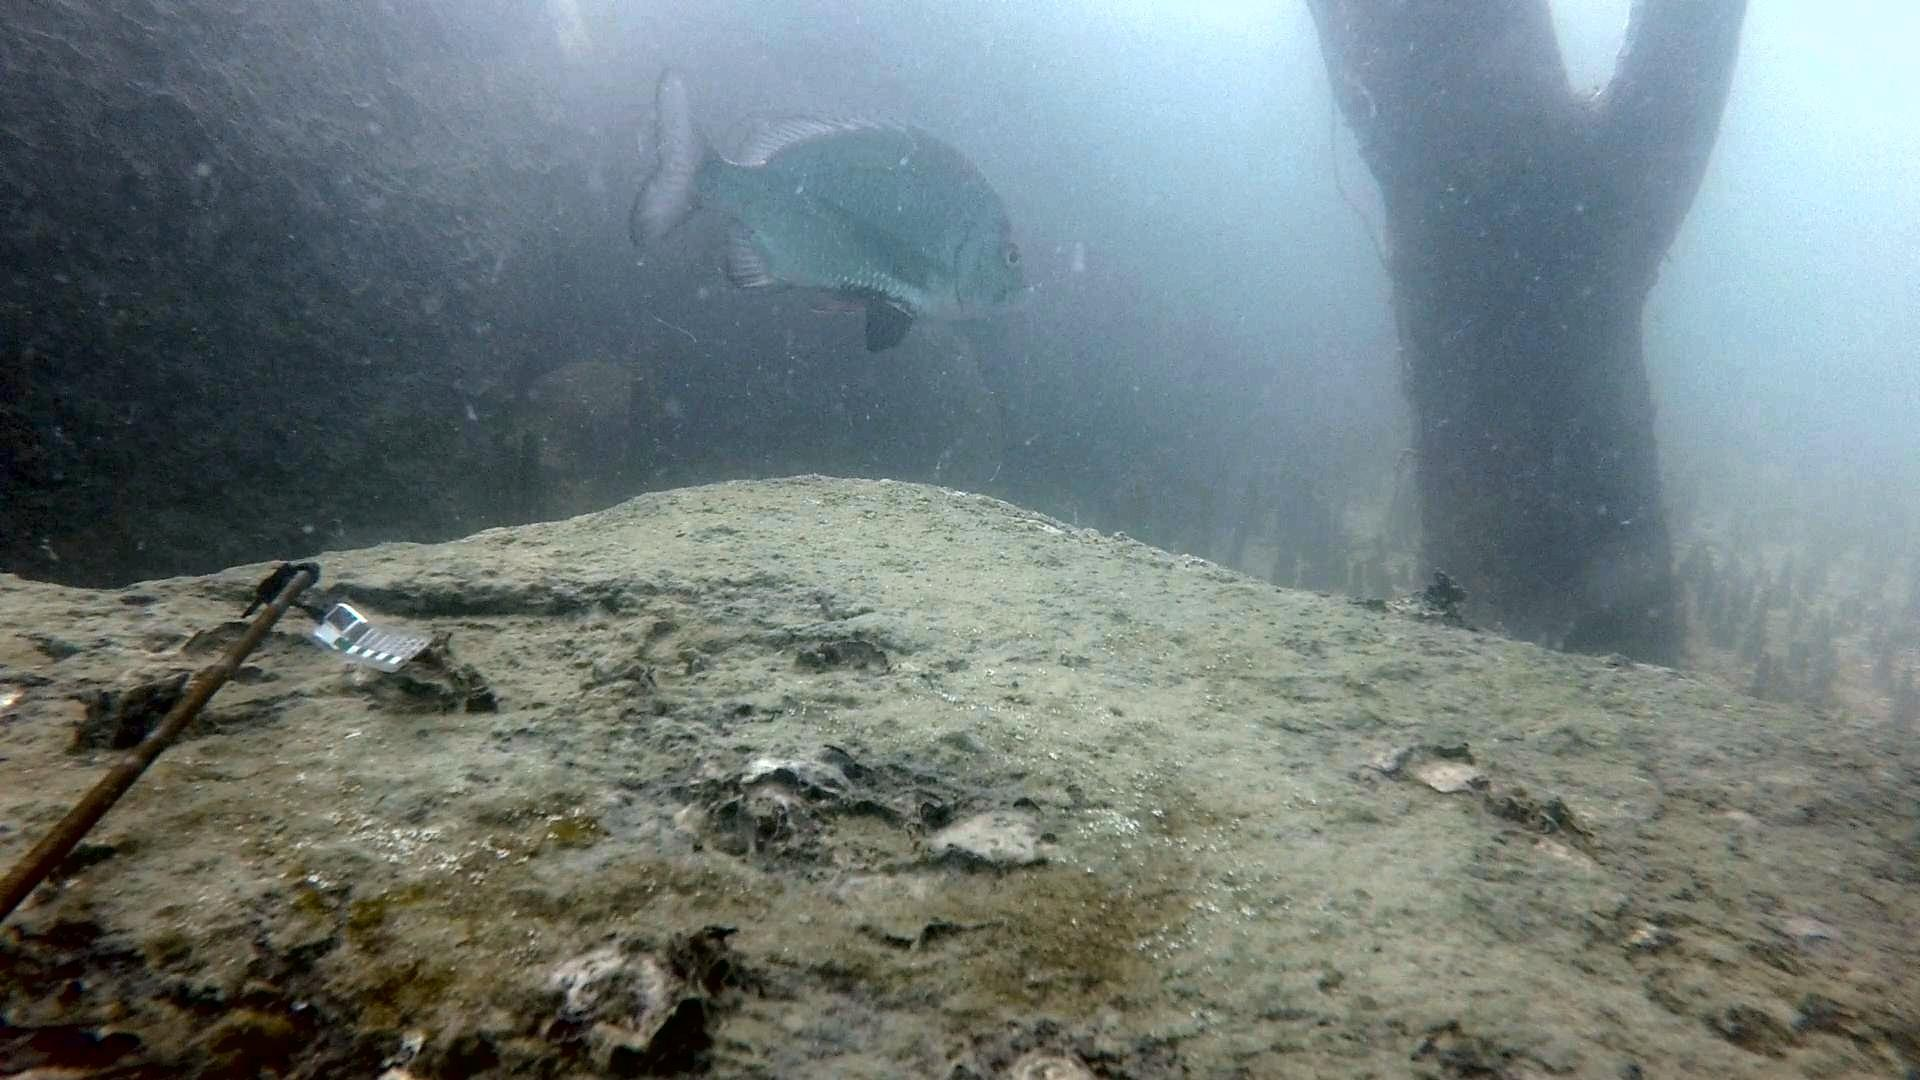acanthopagrus palmaris: (621, 55, 1043, 359)
